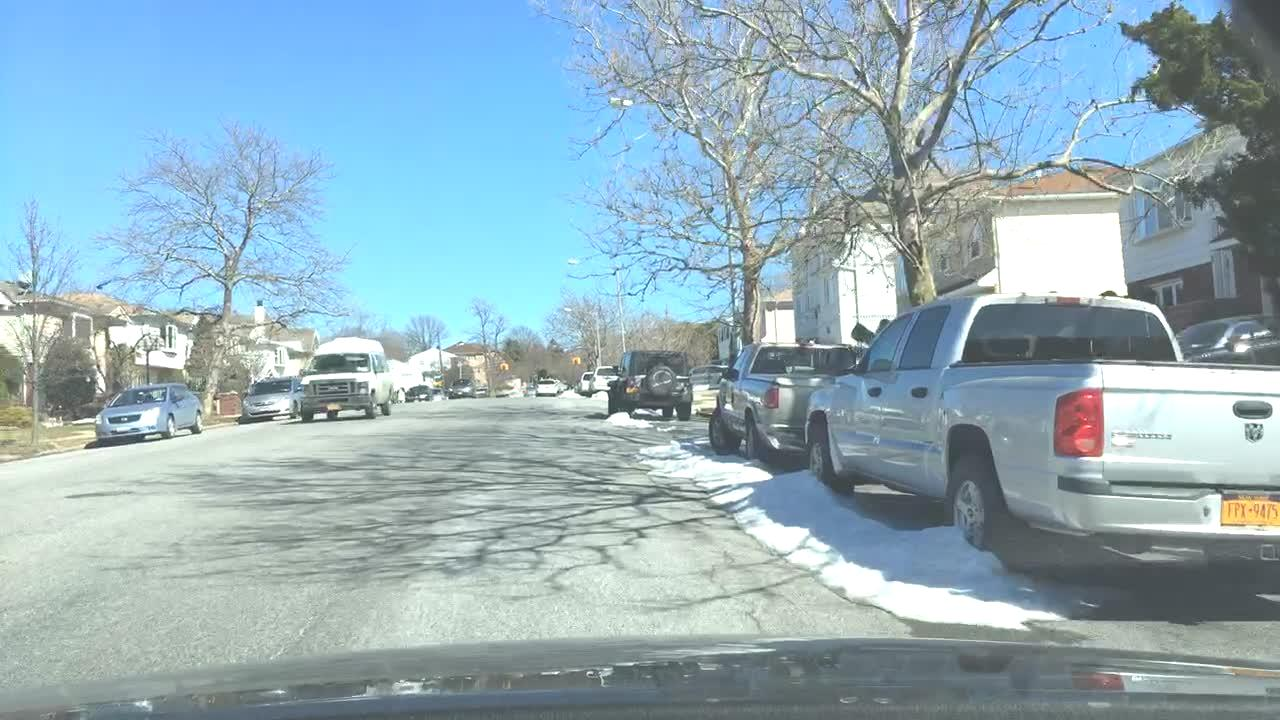ram: (1236, 418, 1268, 448)
